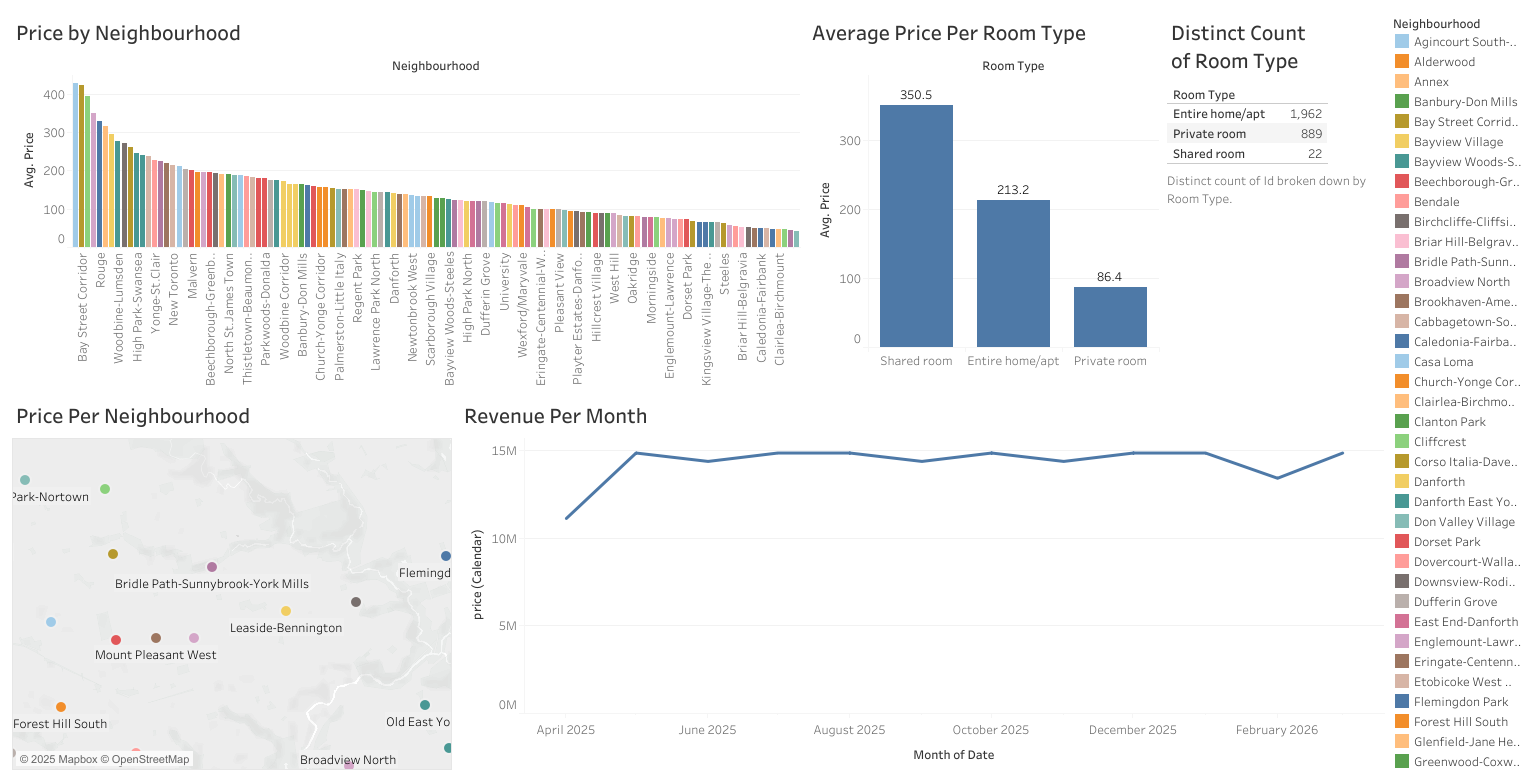

What the dashboard file says about the page in this screenshot:
{"tool":"tableau","page":{"name":"Dashboard 1","canvas":[1000,1000],"units":"permille","ordinal":0},"visuals":[{"type":"worksheet","title":"Sheet 1","mark":"Automatic","rows":["price"],"cols":["neighbourhood"],"box":[6.6,11.4,503.4,488.6]},{"type":"worksheet","title":"Sheet 4","mark":"Automatic","rows":["price"],"cols":["room_type"],"box":[510,11.4,227.3,488.6]},{"type":"worksheet","title":"Sheet 5","mark":"Automatic","rows":["room_type"],"box":[737.3,11.4,142.3,488.6]},{"type":"legend","title":"Sheet 1","param":"[federated.0kmgbfz0de5uea13fpuw70z9i6m0].[none:neighbourhood:nk]","box":[879.6,11.4,113.8,977.1]},{"type":"worksheet","title":"Sheet 2","mark":"Automatic","rows":["latitude"],"cols":["longitude"],"box":[6.6,500,283.7,488.6]},{"type":"worksheet","title":"Sheet 3","mark":"Automatic","rows":["price (Calendar)"],"cols":["date"],"box":[290.3,500,589.3,488.6]}]}

Visuals, with their boxes on the dashboard's canvas, which has no fixed pixel size, in thousandths of its width and height (x1, y1, x2, y2). These are canvas units, not pixel positions in the 1533x781 screenshot, which may show the page scaled, cropped or inside an application window:
"Sheet 1" worksheet: detection(7, 11, 510, 500)
"Sheet 4" worksheet: detection(510, 11, 737, 500)
"Sheet 5" worksheet: detection(737, 11, 880, 500)
"Sheet 1" legend: detection(880, 11, 993, 988)
"Sheet 2" worksheet: detection(7, 500, 290, 989)
"Sheet 3" worksheet: detection(290, 500, 880, 989)
